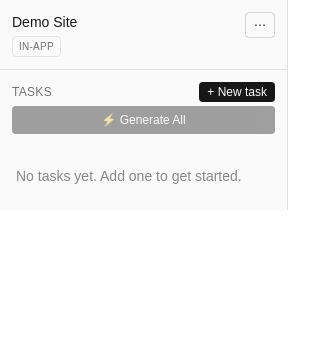
Test case: Sidebar project menu (BI-067.2) › closes when New project opens the draft input
Click the button named "Project menu" at (260, 25), box [245, 12, 275, 38]
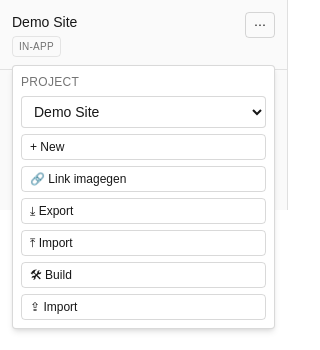
Click the button with aria-label "New project" at (144, 147), box [21, 134, 266, 160]
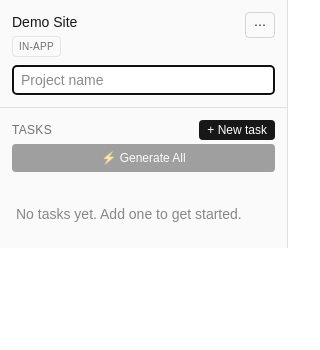
Now the field named "New project name" is shown, box [12, 65, 275, 95]
